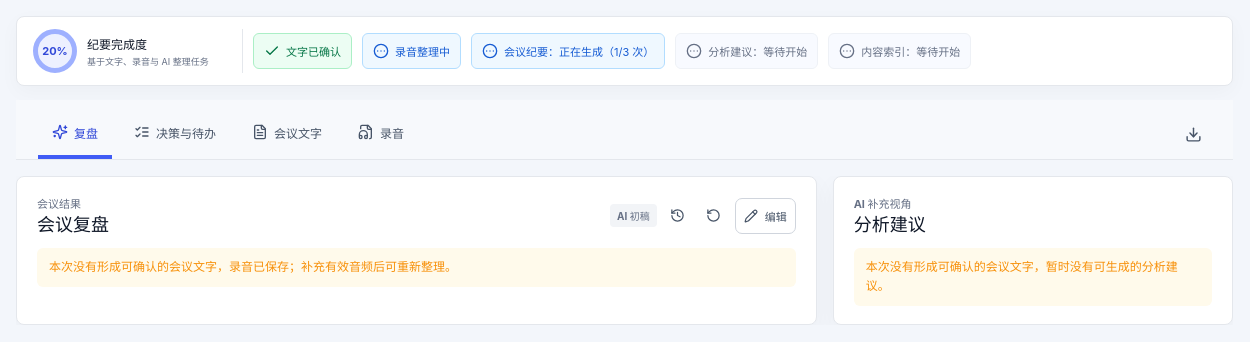
it: ReviewWorkspace › shows the actual running minutes state in the actions tab
This screenshot has width=1250, height=342.
What coordinates should you click on to do the following:
click the tab "决策与待办"
I would click on:
 (175, 133)
Its box is 120,107 -> 230,159.
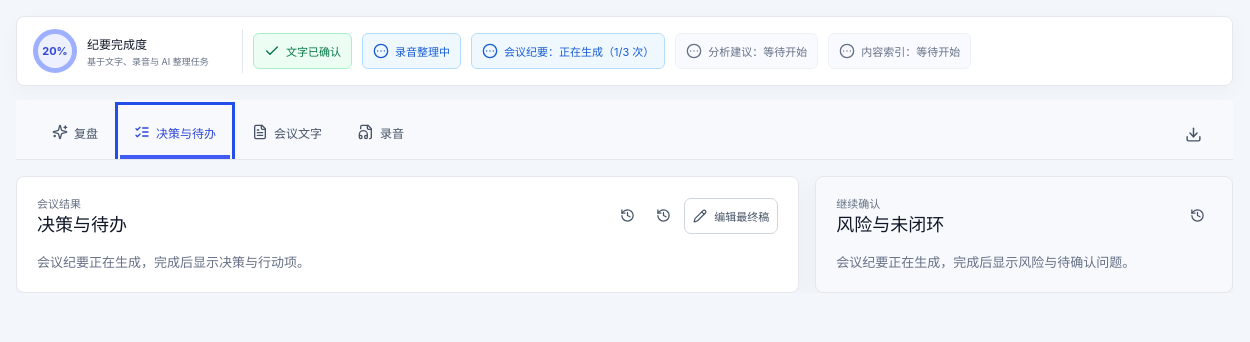
Now the text "会议纪要正在生成，完成后显示决策与行动项。" is shown, box 37,254 -> 310,270
